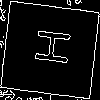H: (25, 25, 71, 68)
